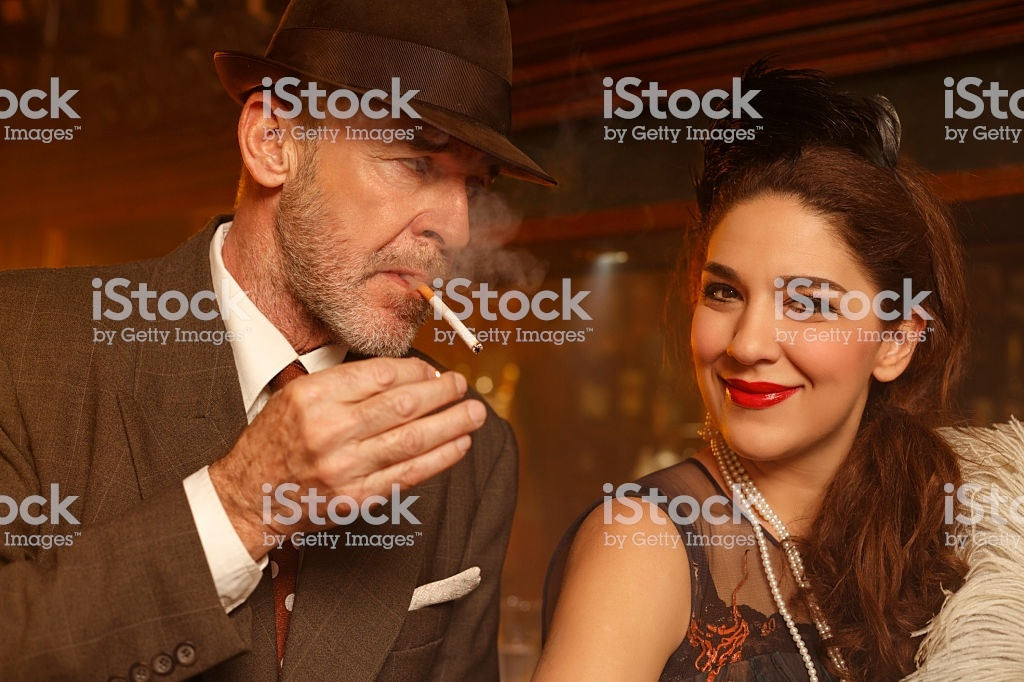sigaretta: (412, 279, 485, 352)
